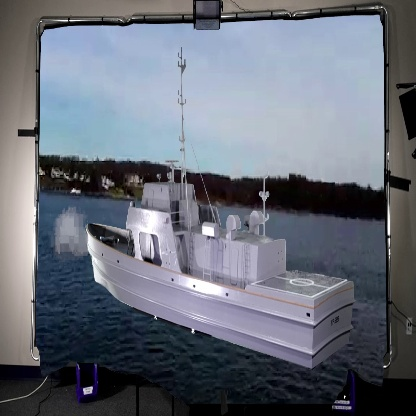YP689: (85, 49, 355, 371)
